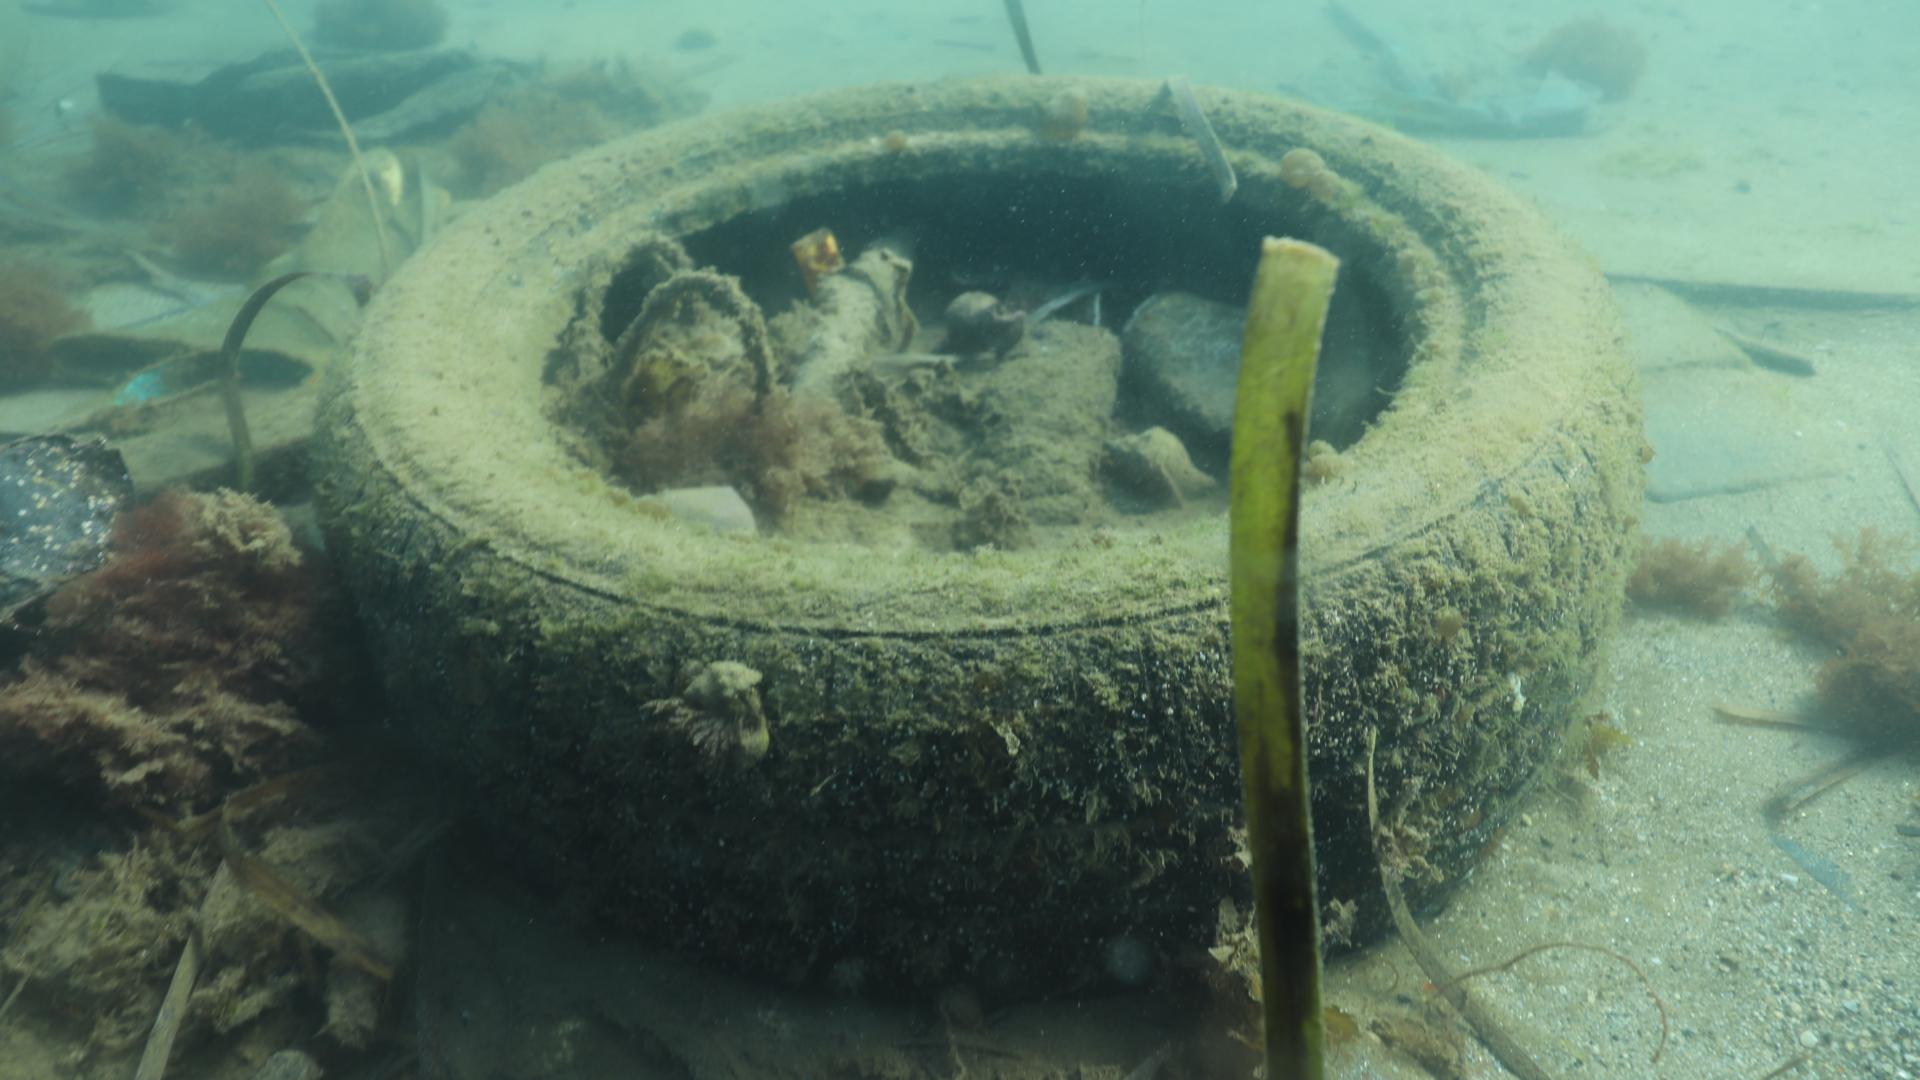tire: (311, 69, 1635, 1023)
